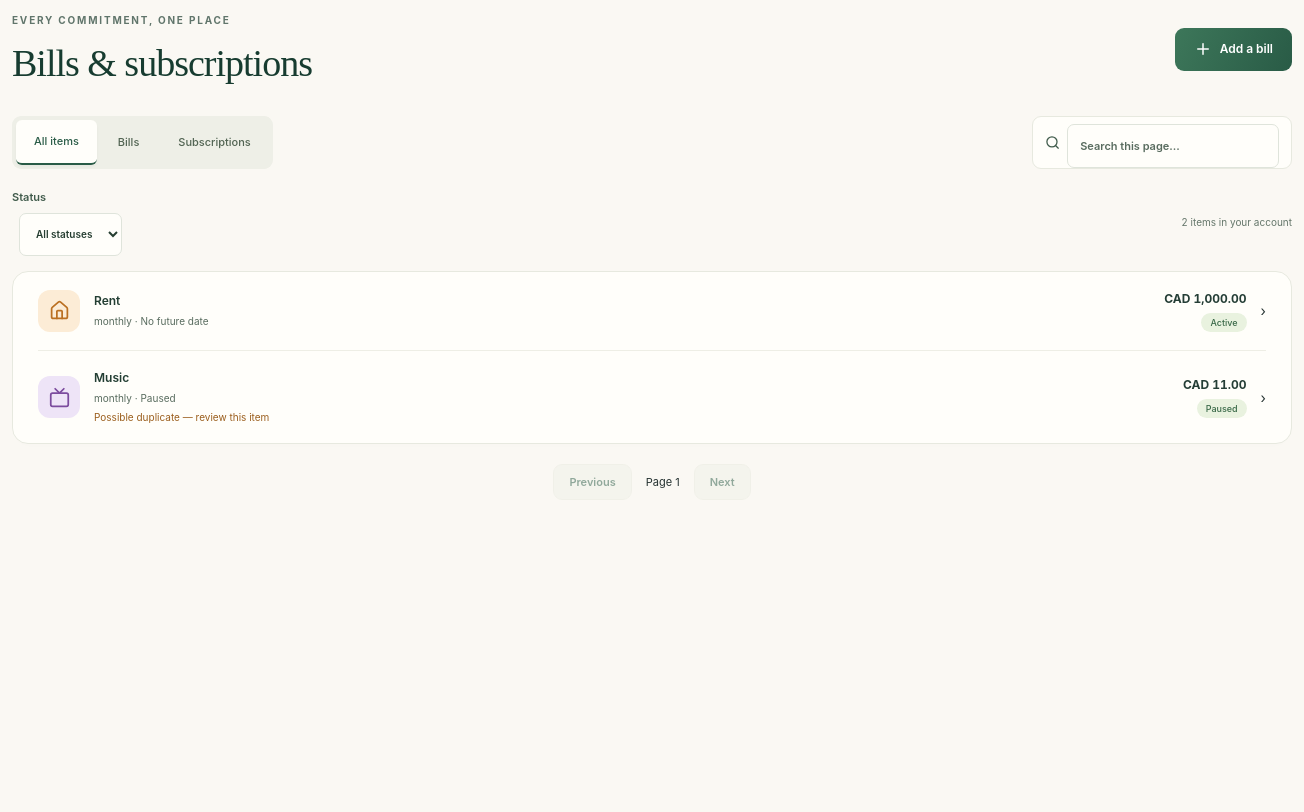
Test case: onboarding and page states › bills filters active subscriptions and flags duplicates
Expected: the text "Rent" is shown, [94,293,120,308]
Expected: the text "Possible duplicate — review this item" is shown, [94,411,269,423]
Click the button "Subscriptions" at (214, 143), box [160,120,269,165]
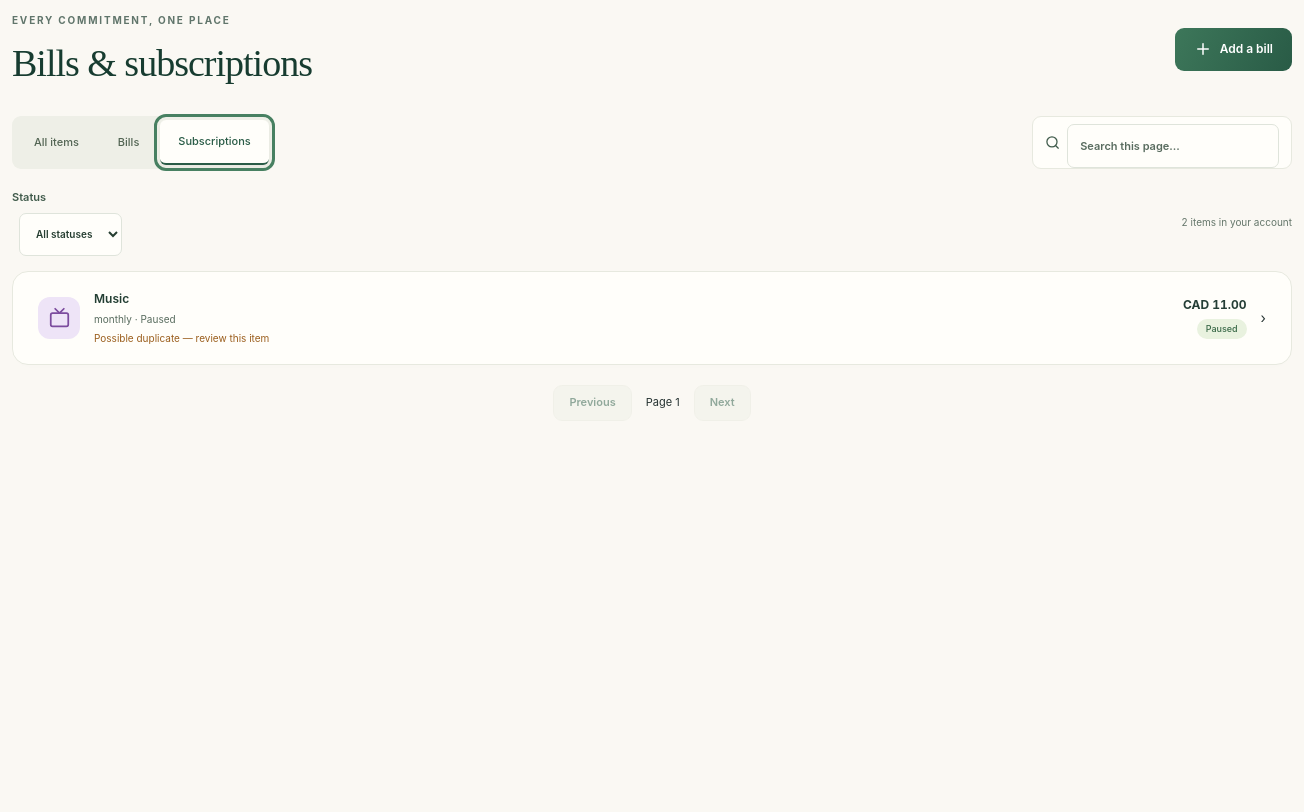
Expected: the text "Music" is shown, [94,291,129,306]
Expected: the link "Rent" is gone
Select "Active" in the dropdown labelled "Status" at (70, 234), box [19,213,122,256]
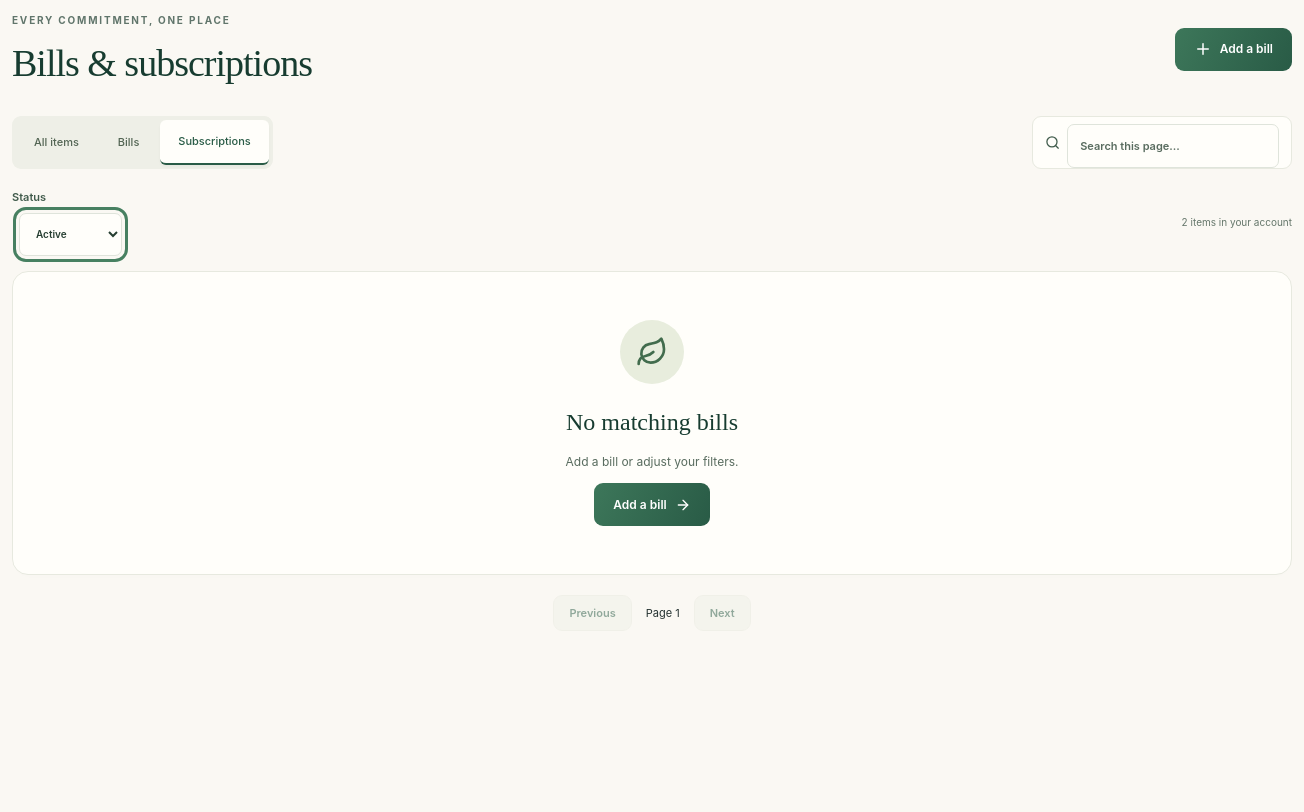
Expected: the heading "No matching bills" is shown, [566,404,738,440]
